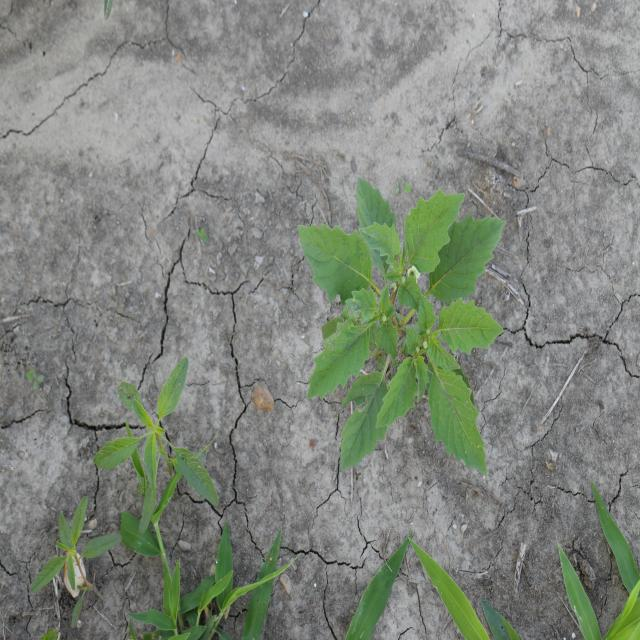CutleafGroundcherry: (295, 175, 509, 479)
Waterhemp: (92, 354, 220, 534), (28, 494, 124, 629)
